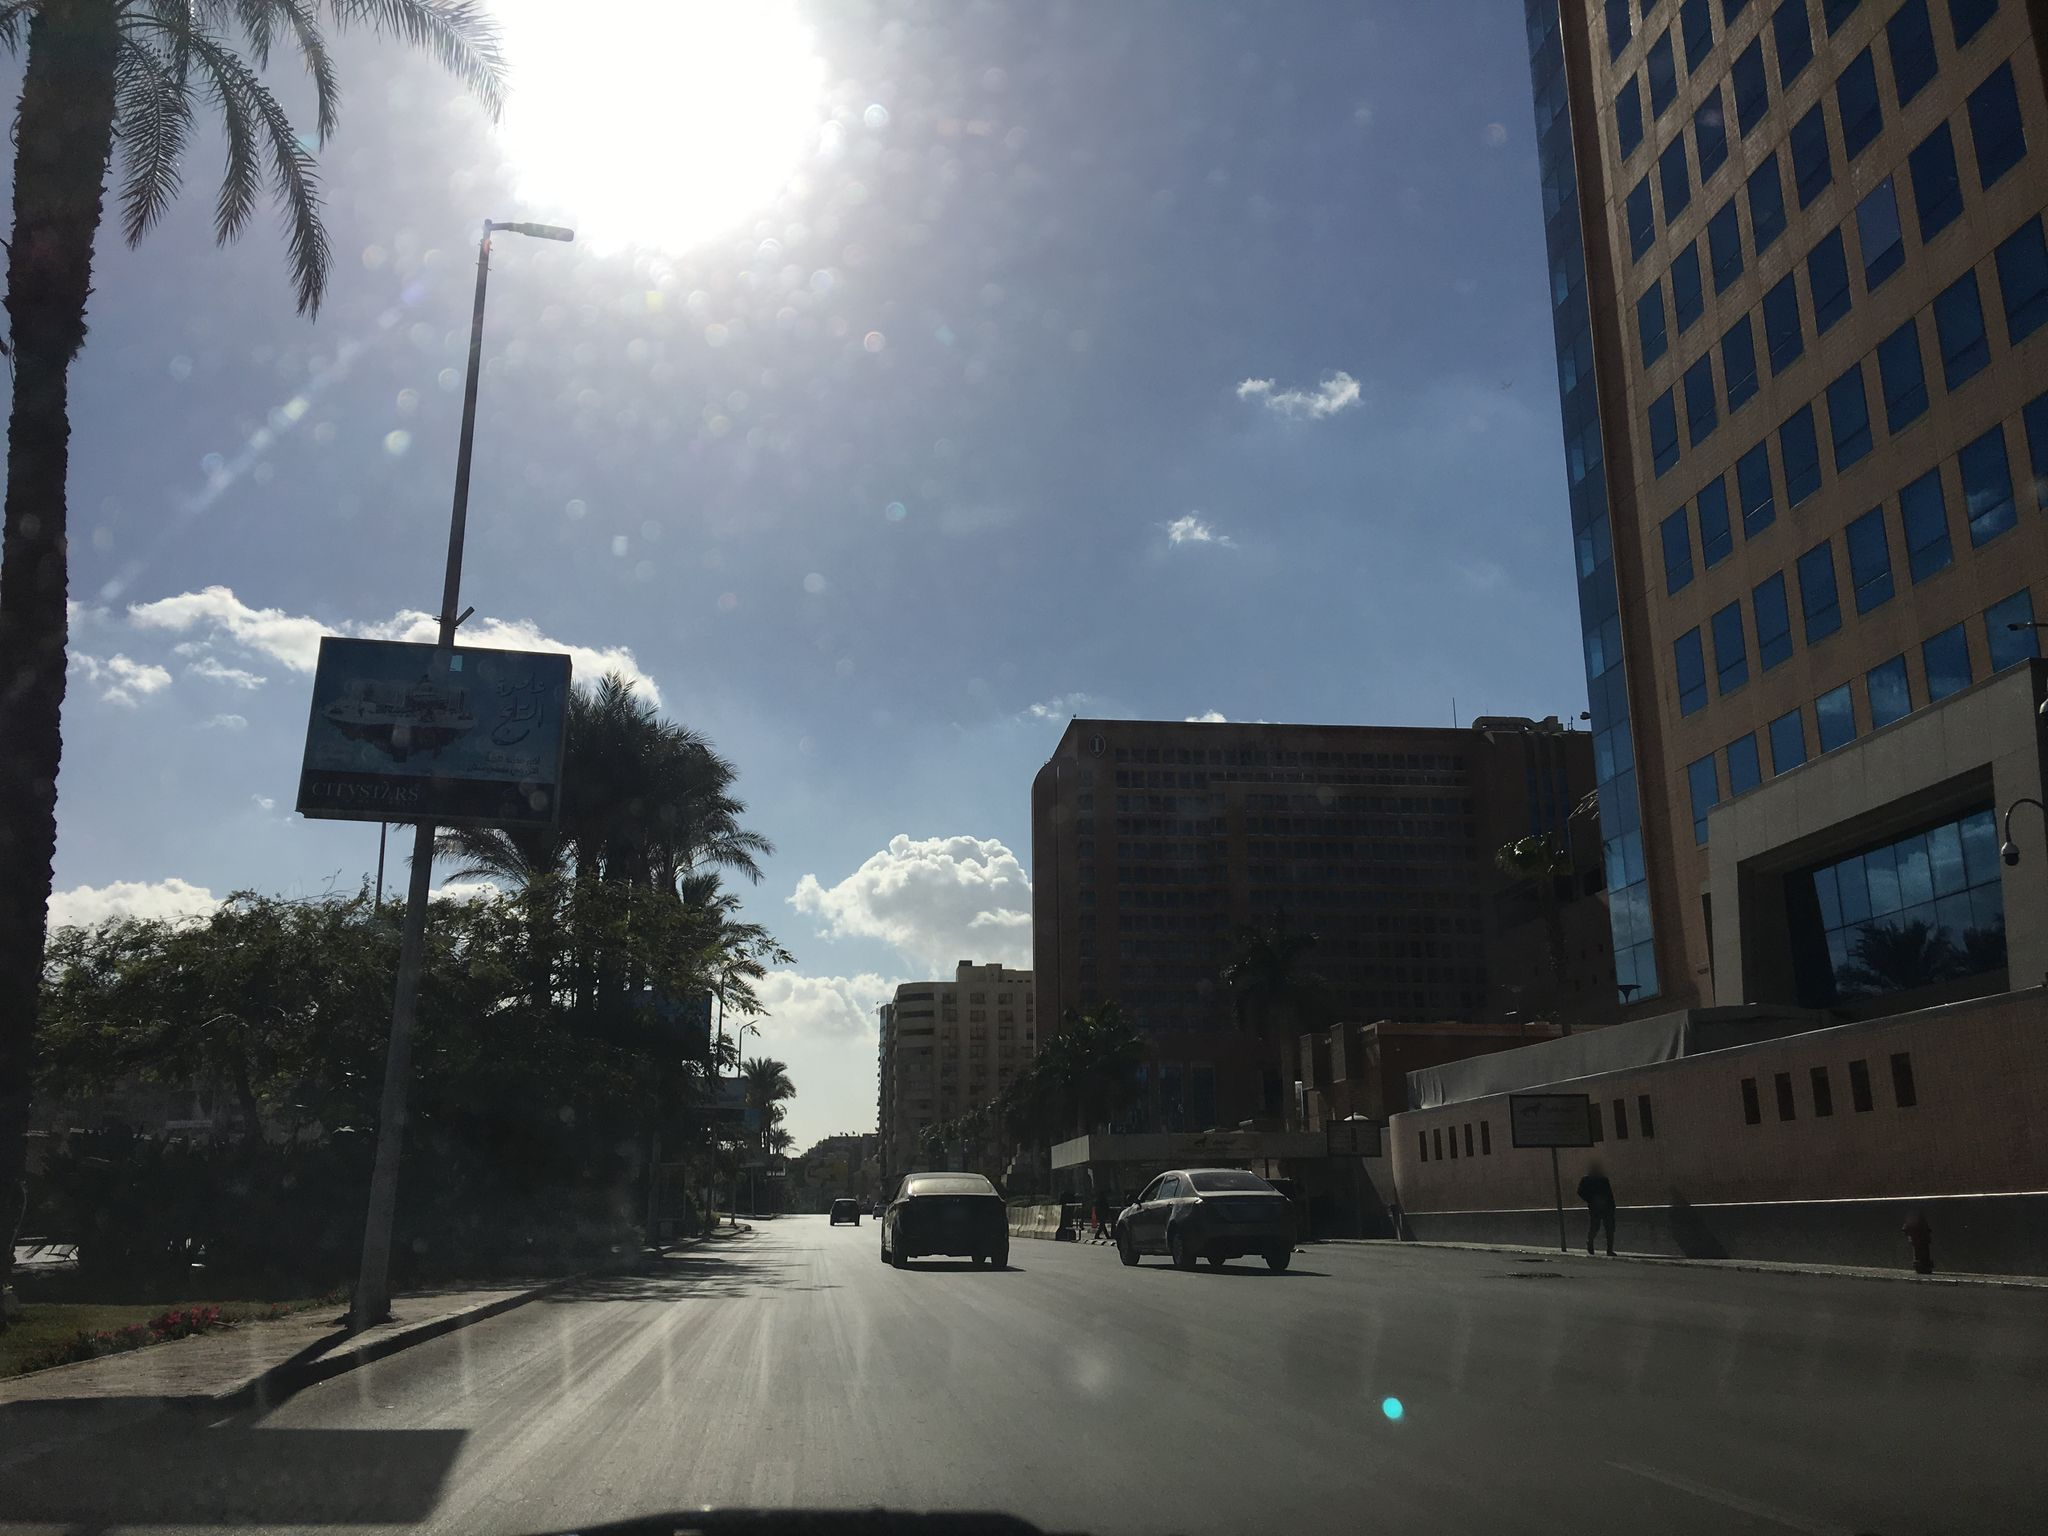car: (1113, 1167, 1297, 1270), (880, 1170, 1009, 1267), (830, 1197, 860, 1225)
